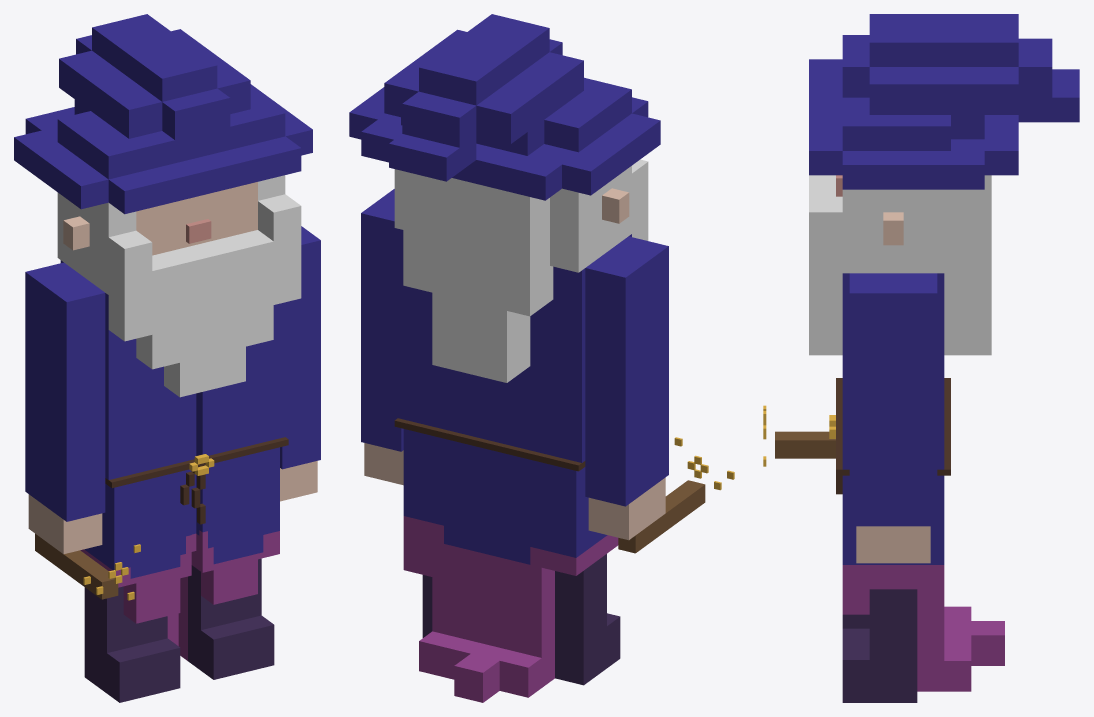
The model's file is mago fbx.fbx.
The picture shows the model from 3 angles, left to right: view 1: azimuth 30°, elevation 25°; view 2: azimuth 150°, elevation 25°; view 3: azimuth 270°, elevation 25°; orthographic projection. The views are drawn at different scales.
Parts seen in each view (by area): view 1: mago; view 2: mago; view 3: mago.
Part boxes in pixels (x1,y1,x2,y2): mago: [14, 14, 320, 702]; mago: [349, 14, 734, 702]; mago: [763, 14, 1079, 702].
Size of the model in its own units: 501 by 1040 by 467.
